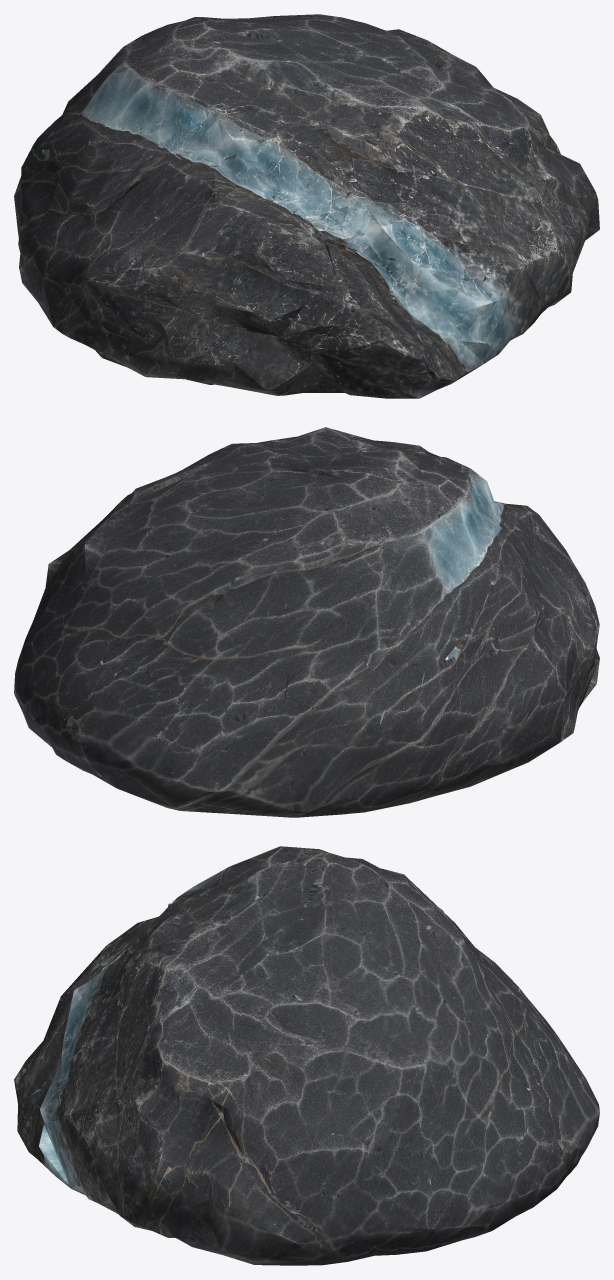
File: fc_iceveined_slate_boulder.glb
3 renders of one model, top to bottom at view 1: azimuth 30°, elevation 25°; view 2: azimuth 150°, elevation 25°; view 3: azimuth 270°, elevation 25°, orthographic. The views are drawn at different scales.
Parts seen in each view (by area): view 1: mesh; view 2: mesh; view 3: mesh.
Boxes of the visible parts, left/top/right/bottom form: mesh: left=14, top=14, right=599, bottom=398; mesh: left=14, top=427, right=599, bottom=817; mesh: left=14, top=846, right=599, bottom=1265.
Size of the model in its own units: 1.87 by 0.916 by 1.9.
1 material, 1 textured.
